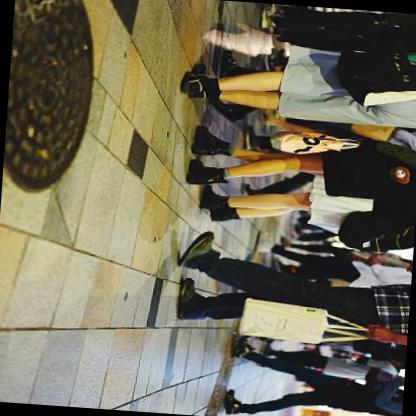manholes: (0, 0, 129, 226)
